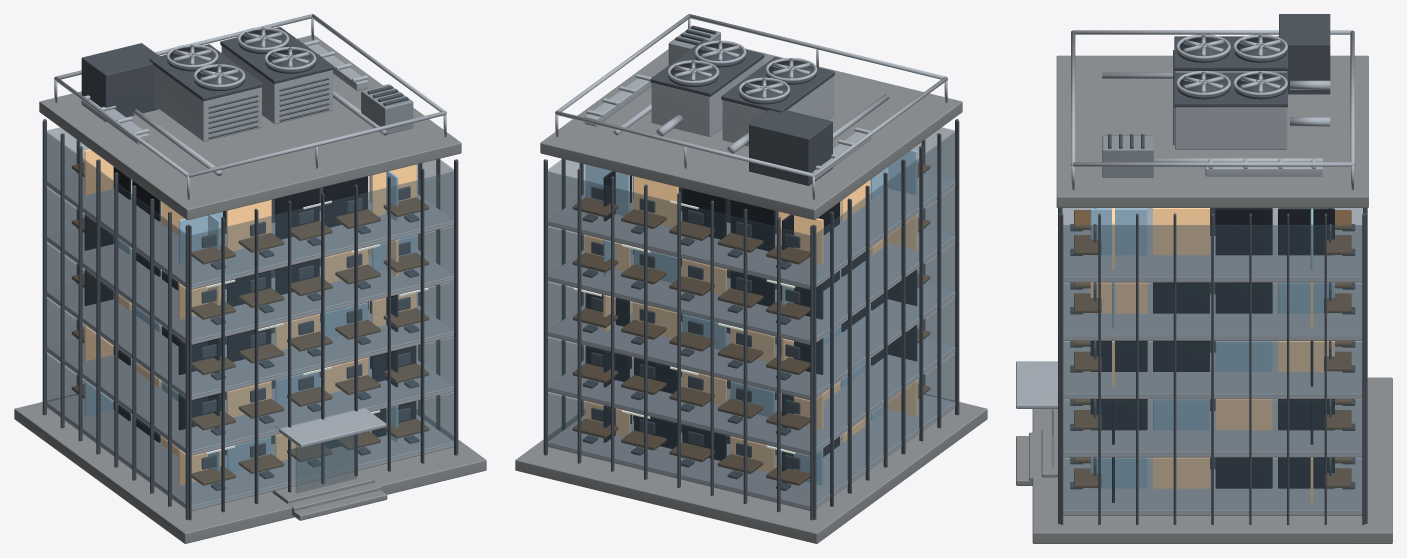
The model's file is office.glb.
3 renders of one model, left to right at view 1: azimuth 30°, elevation 25°; view 2: azimuth 150°, elevation 25°; view 3: azimuth 270°, elevation 25°, orthographic. The views are drawn at different scales.
Parts seen in each view (by area): view 1: body_glass.036, body_steel.132, body_dark.123, body_concrete.041, body_wood.016, body_window_dark.009, body_window.016, body_steel.133, body_window_cool.009, body_dark.124, body_ceramic.018; view 2: body_glass.036, body_steel.132, body_dark.123, body_concrete.041, body_wood.016, body_window_dark.009, body_window.016, body_steel.133, body_window_cool.009, body_dark.124, body_ceramic.018, body_warm.086; view 3: body_glass.036, body_steel.132, body_concrete.041, body_dark.123, body_window_dark.009, body_window.016, body_steel.133, body_window_cool.009, body_wood.016, body_dark.124, body_ceramic.018.
Boxes of the visible parts, <box> form: body_glass.036: <box>46,127,454,507</box>; body_steel.132: <box>46,40,453,510</box>; body_dark.123: <box>42,27,458,520</box>; body_concrete.041: <box>14,35,486,543</box>; body_wood.016: <box>71,162,429,485</box>; body_window_dark.009: <box>84,167,416,448</box>; body_window.016: <box>84,149,416,485</box>; body_steel.133: <box>54,14,446,199</box>; body_window_cool.009: <box>84,171,416,483</box>; body_dark.124: <box>167,30,315,90</box>; body_ceramic.018: <box>361,84,413,134</box>; body_glass.036: <box>547,127,955,507</box>; body_steel.132: <box>548,59,955,510</box>; body_dark.123: <box>543,25,959,520</box>; body_concrete.041: <box>515,48,987,543</box>; body_wood.016: <box>572,162,930,485</box>; body_window_dark.009: <box>585,171,917,483</box>; body_window.016: <box>585,176,917,472</box>; body_steel.133: <box>555,14,947,199</box>; body_window_cool.009: <box>585,149,917,485</box>; body_dark.124: <box>668,43,816,104</box>; body_ceramic.018: <box>668,27,720,64</box>; body_warm.086: <box>573,200,795,454</box>; body_glass.036: <box>1051,209,1364,512</box>; body_steel.132: <box>1016,71,1362,515</box>; body_concrete.041: <box>1016,55,1392,543</box>; body_dark.123: <box>1058,14,1367,524</box>; body_window_dark.009: <box>1090,208,1334,502</box>; body_window.016: <box>1090,208,1334,502</box>; body_steel.133: <box>1071,30,1354,190</box>; body_window_cool.009: <box>1090,208,1334,488</box>; body_wood.016: <box>1074,210,1351,487</box>; body_dark.124: <box>1177,38,1287,99</box>; body_ceramic.018: <box>1102,135,1153,177</box>.
Bounding box in the file's own units: 2 × 2.43 × 2.05.
